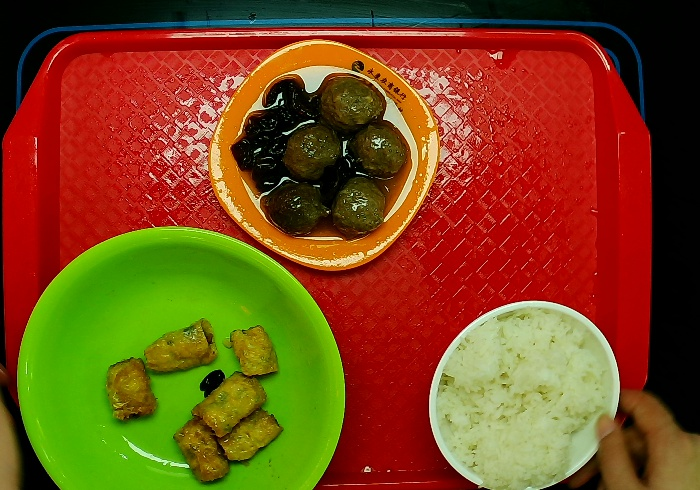YKMZ-Fan_Wan: (412, 286, 630, 490)
YKMZ-Ju_Se_Fang_Die: (208, 40, 439, 276)
YKMZ-Lv_Se_Tang_Wan: (19, 226, 351, 490)
